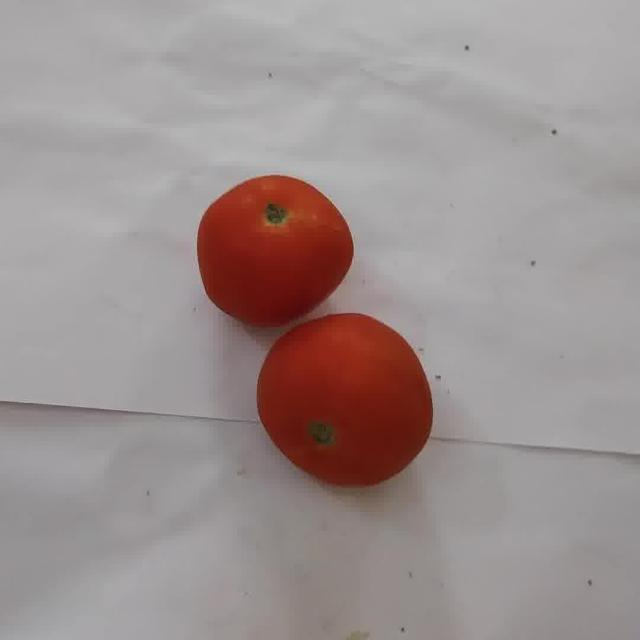Tomato: (257, 315, 433, 487), (197, 175, 353, 327)
